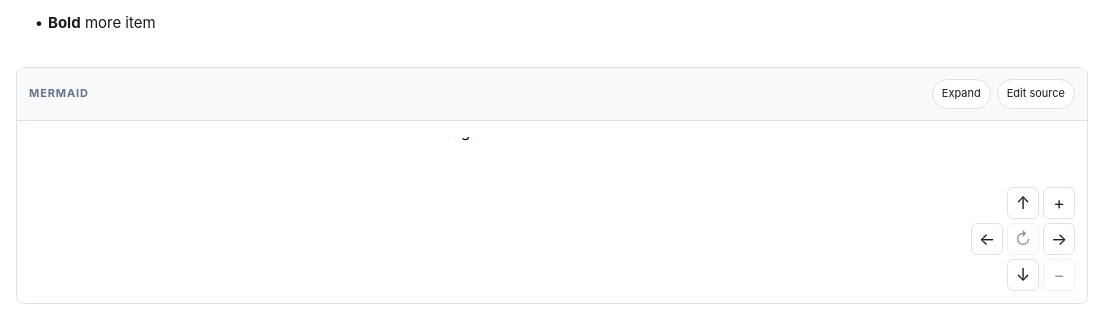
Mermaid rich blocks › opens the correct source after earlier text shifts a Mermaid block
The width and height of the screenshot is (1105, 321).
Click the button with class "me-mermaid-edit": (1036, 94) [997,79,1075,109]
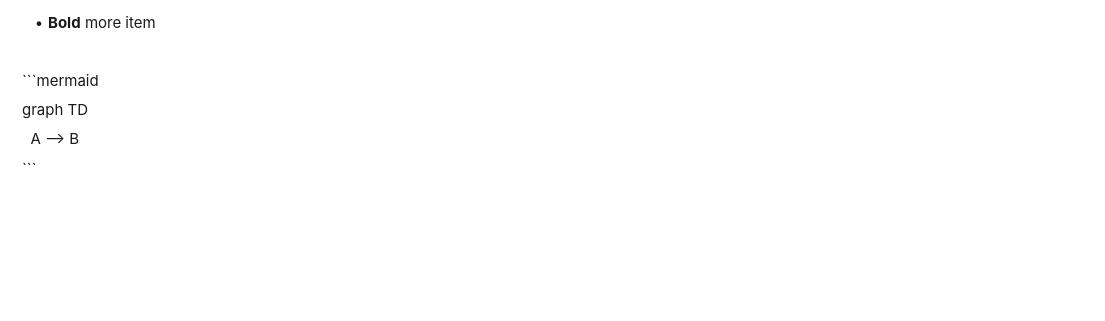
Expected: the element with class "me-mermaid-block" is gone
